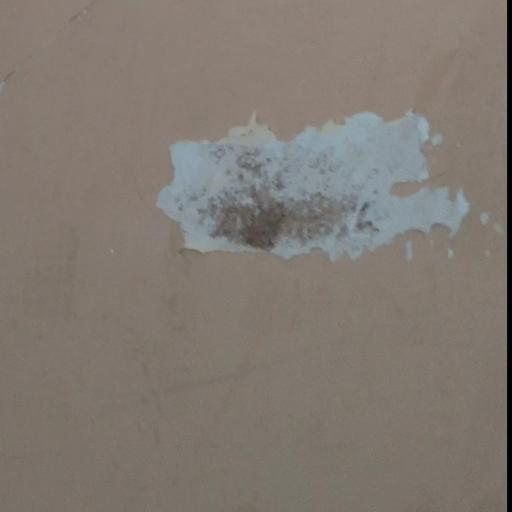peeling: (145, 82, 512, 267)
